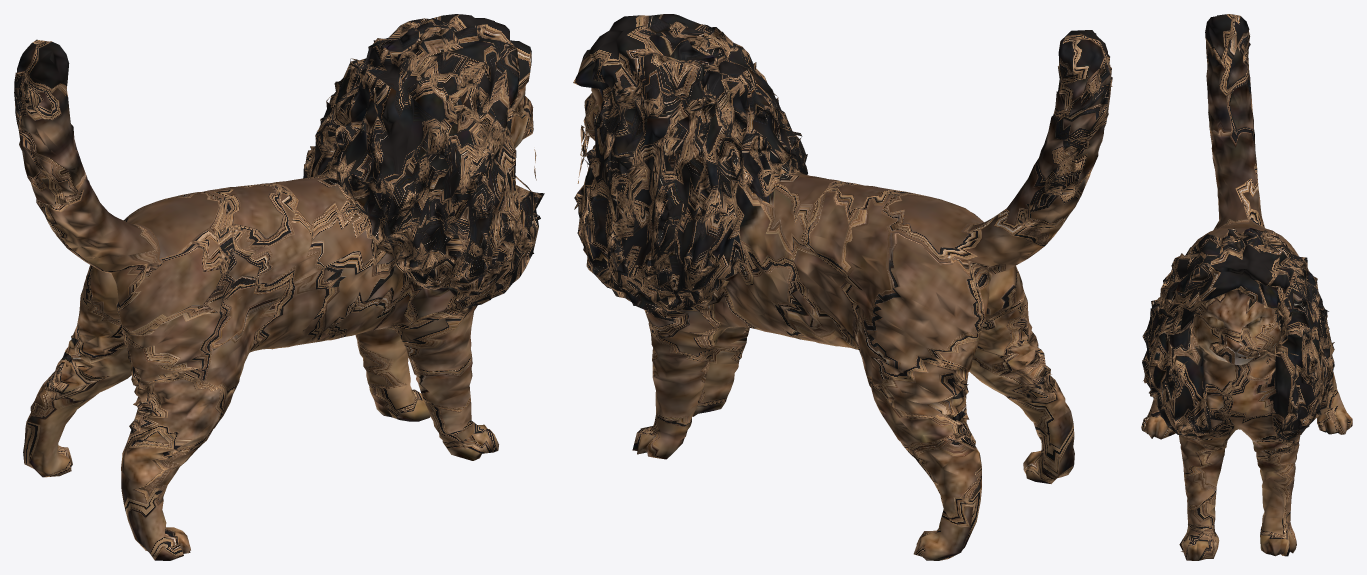
Rendered from CUCUWIG-lo.glb.
3 views of the same model, side by side, from view 1: azimuth 30°, elevation 25°; view 2: azimuth 150°, elevation 25°; view 3: azimuth 270°, elevation 25° (orthographic). The views are drawn at different scales.
Parts seen in each view (by area): view 1: tripo_node_5796671d-9909-41a9-a9ee-f7d0ed81c408; view 2: tripo_node_5796671d-9909-41a9-a9ee-f7d0ed81c408; view 3: tripo_node_5796671d-9909-41a9-a9ee-f7d0ed81c408.
Part boxes in pixels (box(x1,y1,x2,y2)): tripo_node_5796671d-9909-41a9-a9ee-f7d0ed81c408: box(14, 14, 544, 560); tripo_node_5796671d-9909-41a9-a9ee-f7d0ed81c408: box(573, 14, 1112, 560); tripo_node_5796671d-9909-41a9-a9ee-f7d0ed81c408: box(1141, 14, 1352, 560).
Size of the model in its own units: 1.09 by 0.9976 by 0.4926.
1 material, 1 textured.
